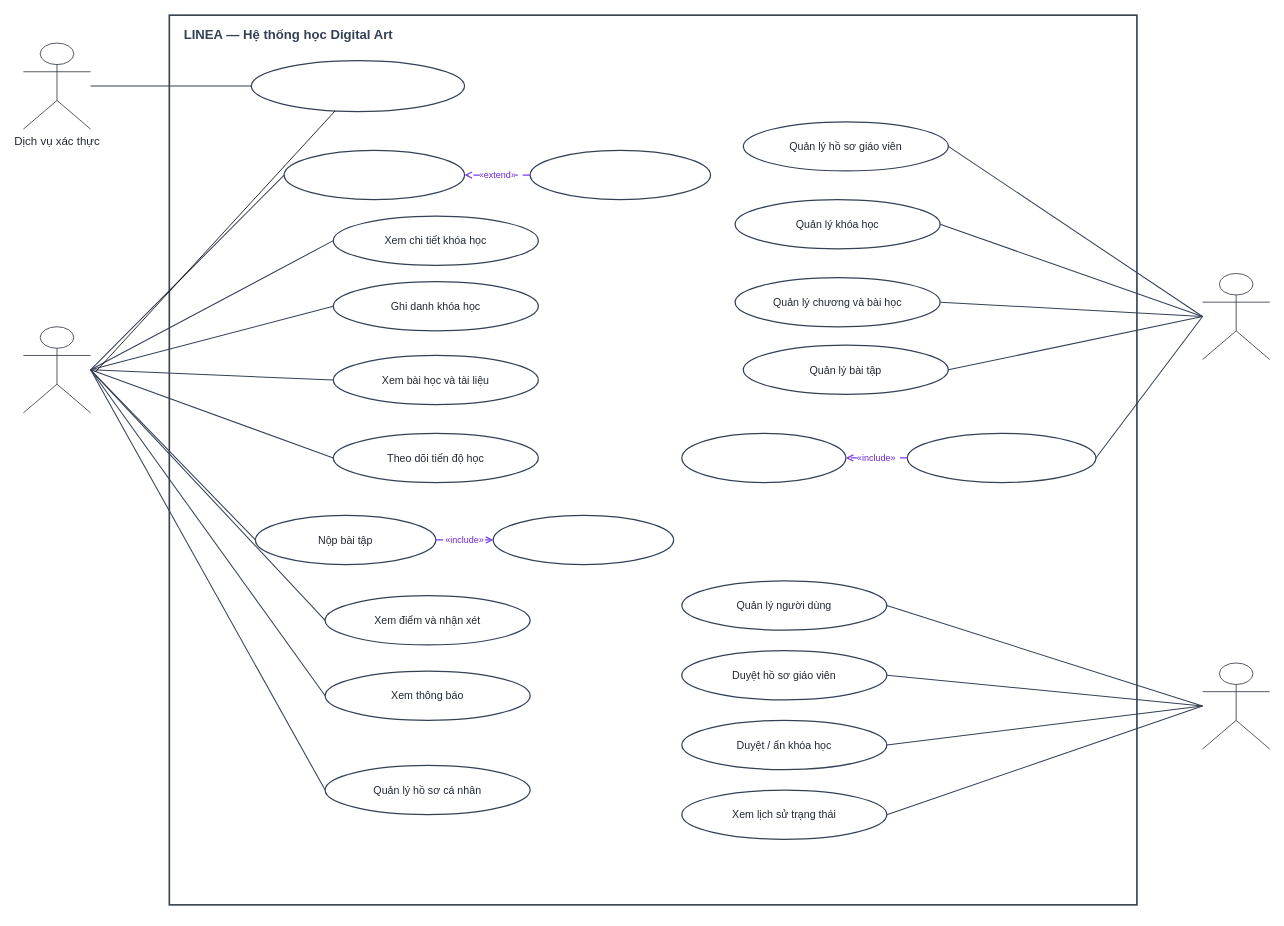
This 1284x926 diagram has some shape labels left out. Here are the shapes that lost their labels. From the top down, the box of each, then its label:
(250, 60, 465, 112): Đăng ký / đăng nhập
(283, 149, 465, 200): Tìm kiếm khóa học
(529, 149, 711, 200): Lọc khóa học
(1202, 273, 1270, 360): Giáo viên
(23, 326, 91, 413): Học viên
(681, 432, 846, 483): Xem bài nộp
(906, 432, 1096, 483): Chấm điểm và nhận xét
(492, 514, 674, 565): Tải ảnh bài vẽ
(1202, 662, 1270, 749): Quản trị viên
